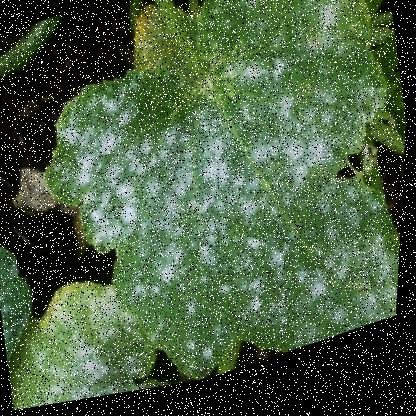PowderyMildew: (74, 0, 384, 331), (279, 198, 404, 361), (5, 300, 128, 412)
